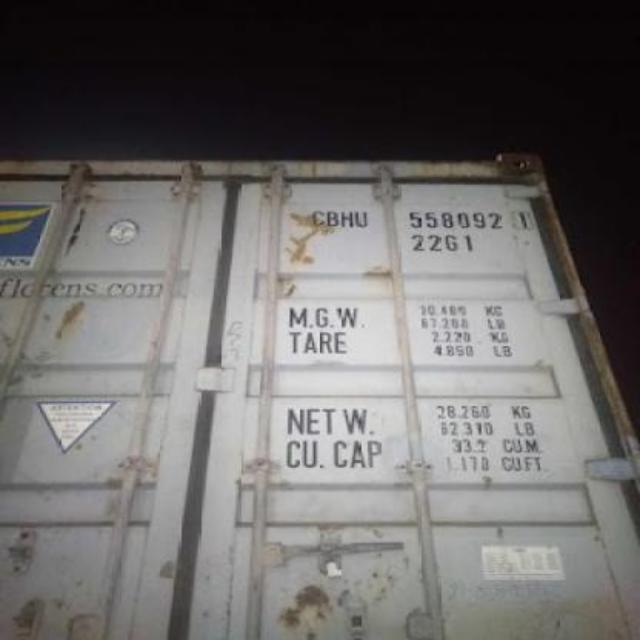0: (454, 204, 472, 230)
1: (512, 206, 532, 228)
2: (486, 204, 506, 232)
5: (422, 204, 440, 228), (406, 204, 422, 228)
8: (438, 202, 454, 230)
9: (472, 204, 488, 232)
B: (324, 202, 338, 232)
C: (310, 202, 324, 228)
H: (338, 204, 354, 230)
U: (354, 206, 370, 230)
